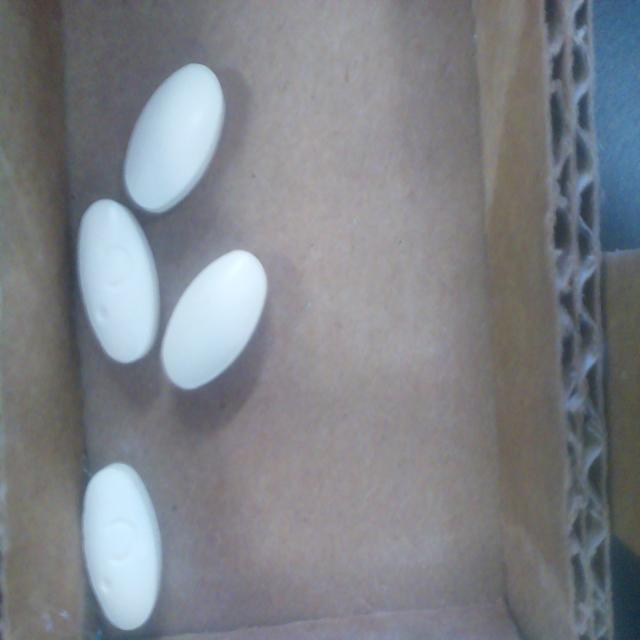pill: (123, 64, 225, 214), (160, 250, 267, 390), (78, 199, 160, 363), (82, 463, 161, 630)
